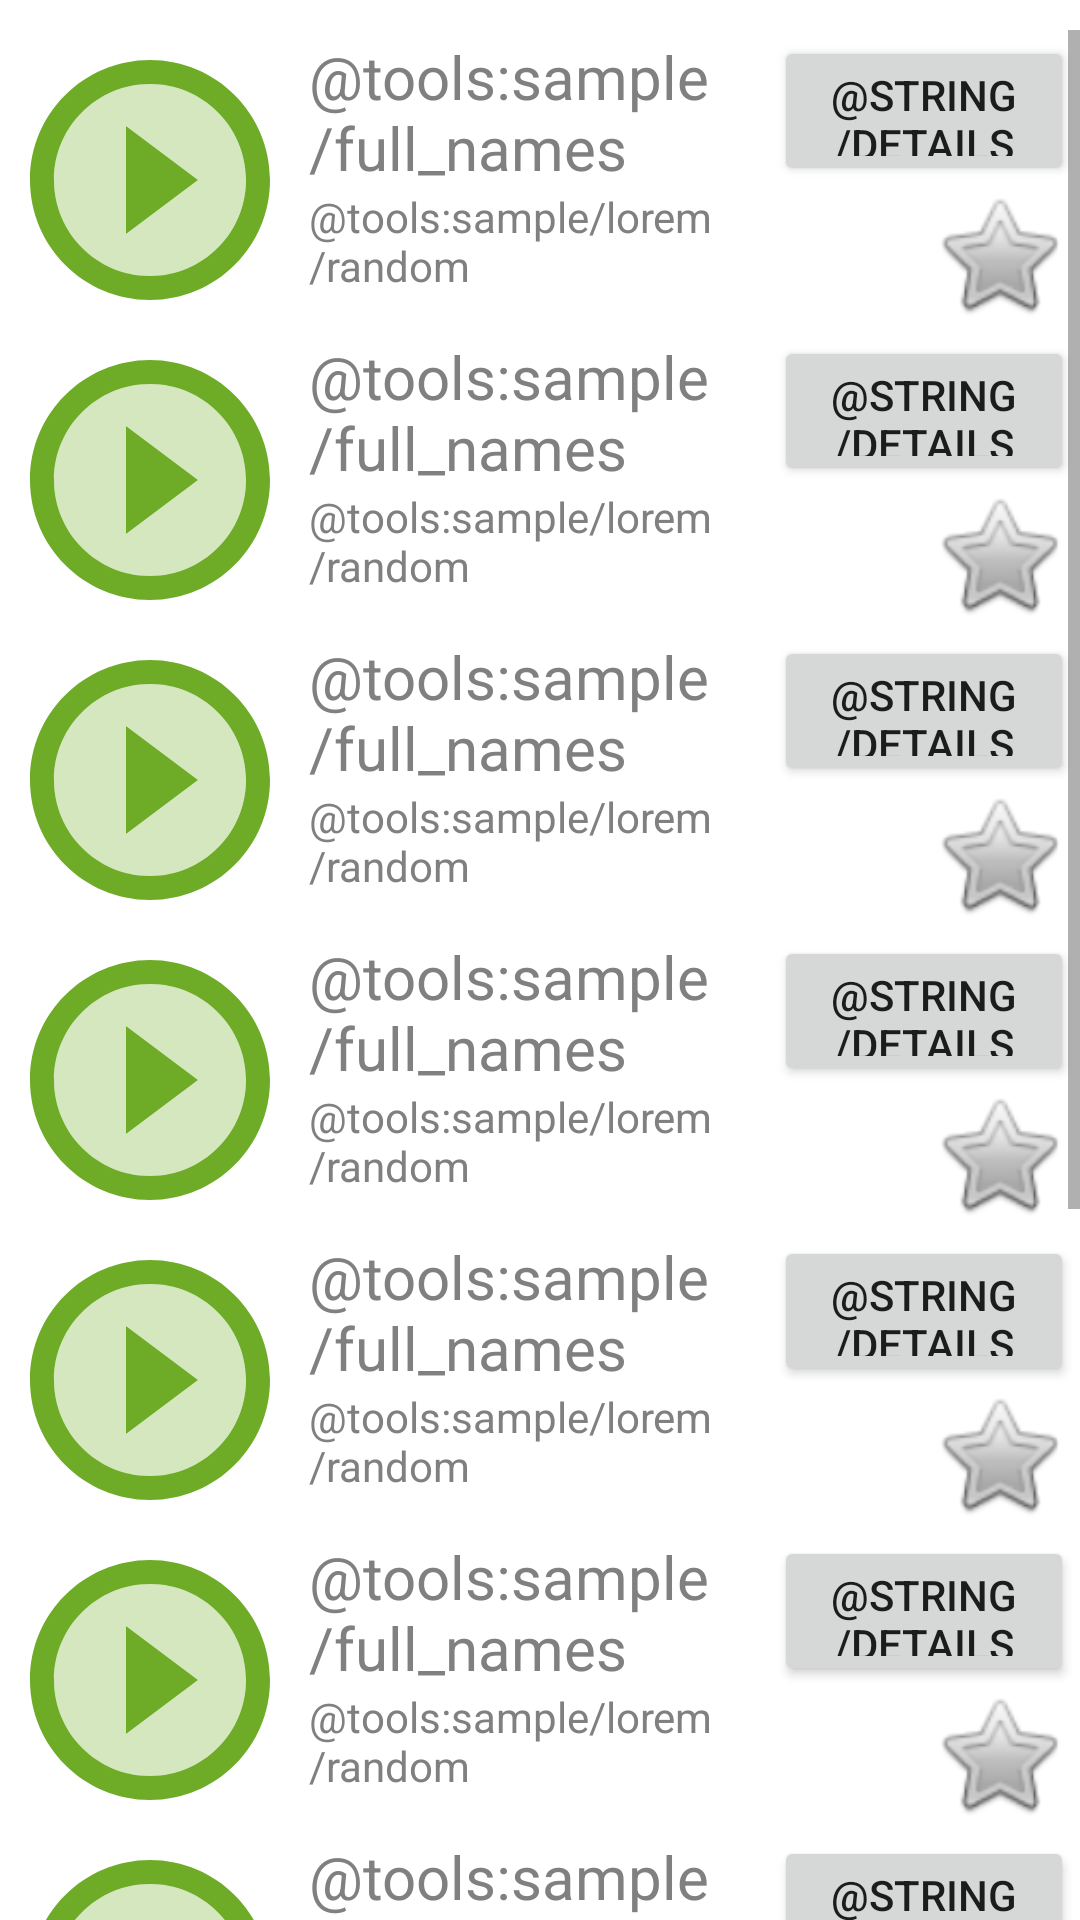

Named icons in this screenshot (1080w x 1920h) and their bounding boxes, bbox(x1, y1, x2, y2):
star off: bbox(942, 200, 1058, 312), bbox(942, 500, 1058, 612), bbox(942, 800, 1058, 912), bbox(942, 1100, 1058, 1212), bbox(942, 1400, 1058, 1512), bbox(942, 1700, 1058, 1812)
